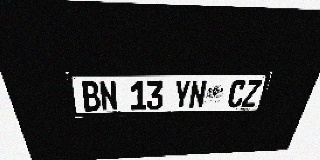1: (129, 81, 146, 110)
3: (147, 81, 163, 110)
B: (80, 81, 101, 111)
C: (226, 80, 247, 108)
N: (98, 81, 118, 111), (188, 80, 207, 109)
Y: (173, 80, 191, 109)
Z: (241, 80, 262, 107)
